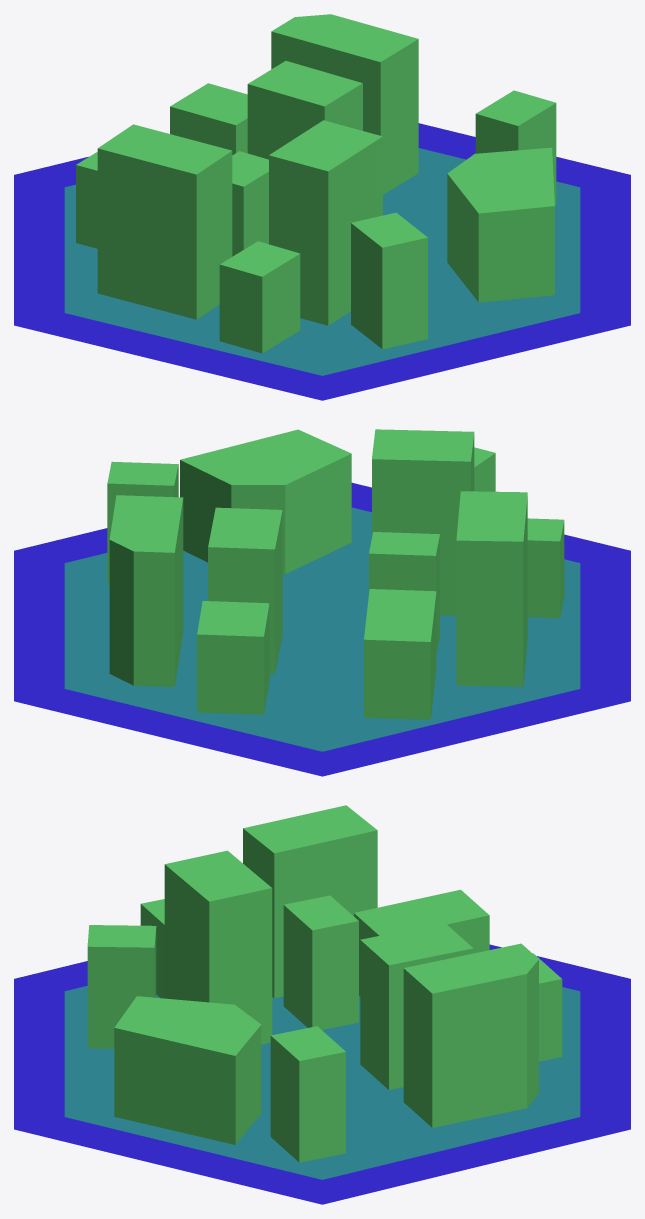
The model's file is hex_tile_test.FBX.
The picture shows the model from 3 angles, top to bottom: view 1: azimuth 30°, elevation 25°; view 2: azimuth 150°, elevation 25°; view 3: azimuth 270°, elevation 25°; orthographic projection.
Parts seen in each view (by area): view 1: bldgs_comm_city_01, hex_border, hex_base; view 2: bldgs_comm_city_01, hex_base, hex_border; view 3: bldgs_comm_city_01, hex_border, hex_base.
Part boxes in pixels (bbox=[...]): bldgs_comm_city_01: bbox=[76, 14, 556, 353]; hex_border: bbox=[14, 123, 630, 400]; hex_base: bbox=[64, 148, 580, 375]; bldgs_comm_city_01: bbox=[107, 429, 564, 719]; hex_base: bbox=[64, 507, 580, 751]; hex_border: bbox=[14, 482, 630, 776]; bldgs_comm_city_01: bbox=[87, 805, 562, 1162]; hex_border: bbox=[14, 944, 630, 1204]; hex_base: bbox=[64, 986, 580, 1179].
Bounding box in the file's own units: 1.15 × 0.2755 × 0.998.
